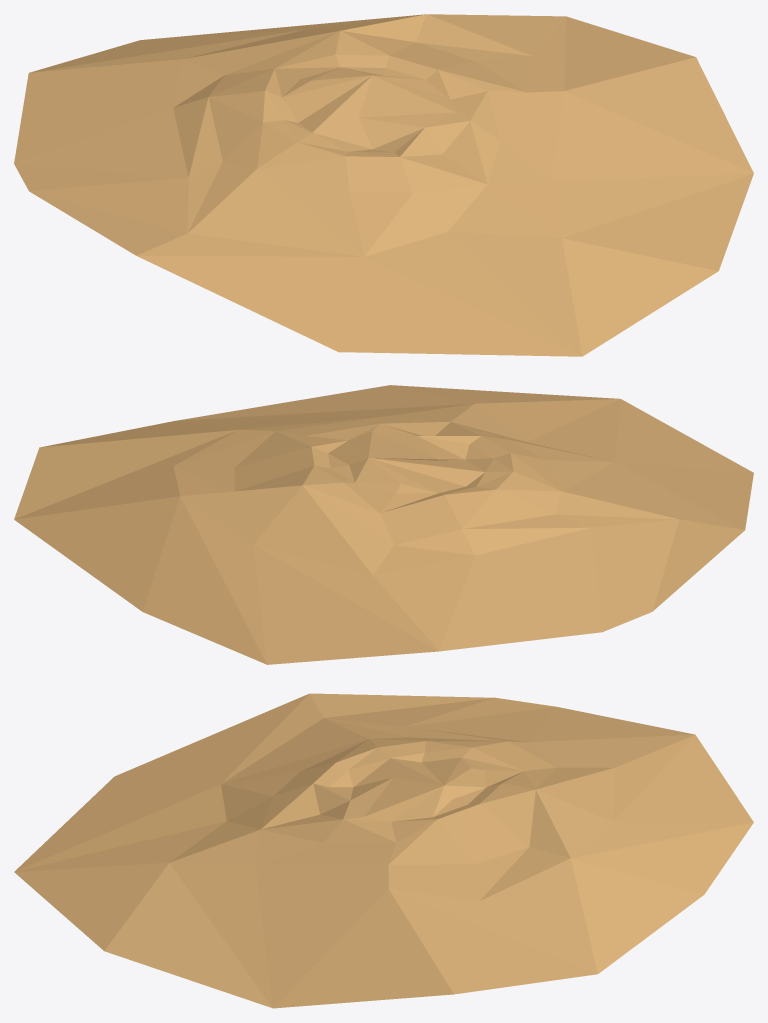
3 renders of one model, top to bottom at view 1: azimuth 30°, elevation 25°; view 2: azimuth 150°, elevation 25°; view 3: azimuth 270°, elevation 25°, orthographic. The views are drawn at different scales.
Parts seen in each view (by area): view 1: node_MeshObject-589935552-PolyPaper18; view 2: node_MeshObject-589935552-PolyPaper18; view 3: node_MeshObject-589935552-PolyPaper18.
Part boxes in pixels (<box>): node_MeshObject-589935552-PolyPaper18: <box>14,14,753,356</box>; node_MeshObject-589935552-PolyPaper18: <box>14,385,753,664</box>; node_MeshObject-589935552-PolyPaper18: <box>14,693,753,1008</box>.
Size of the model in its own units: 0.9842 by 0.1593 by 1.06.
